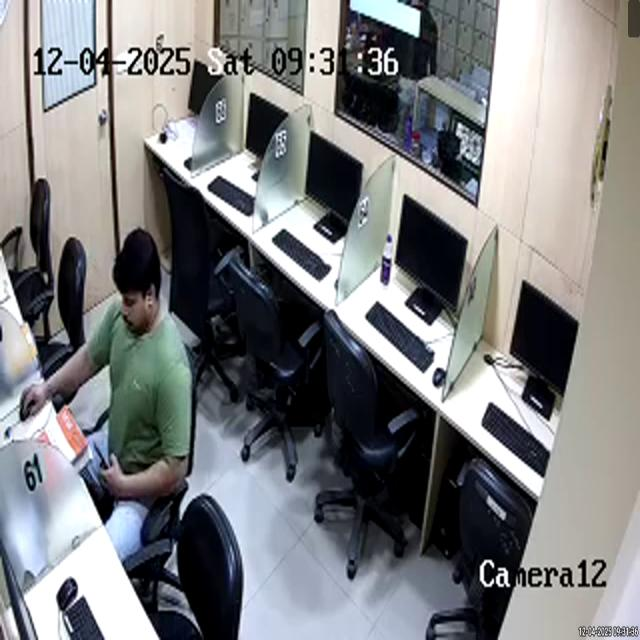phone: (93, 437, 111, 471)
